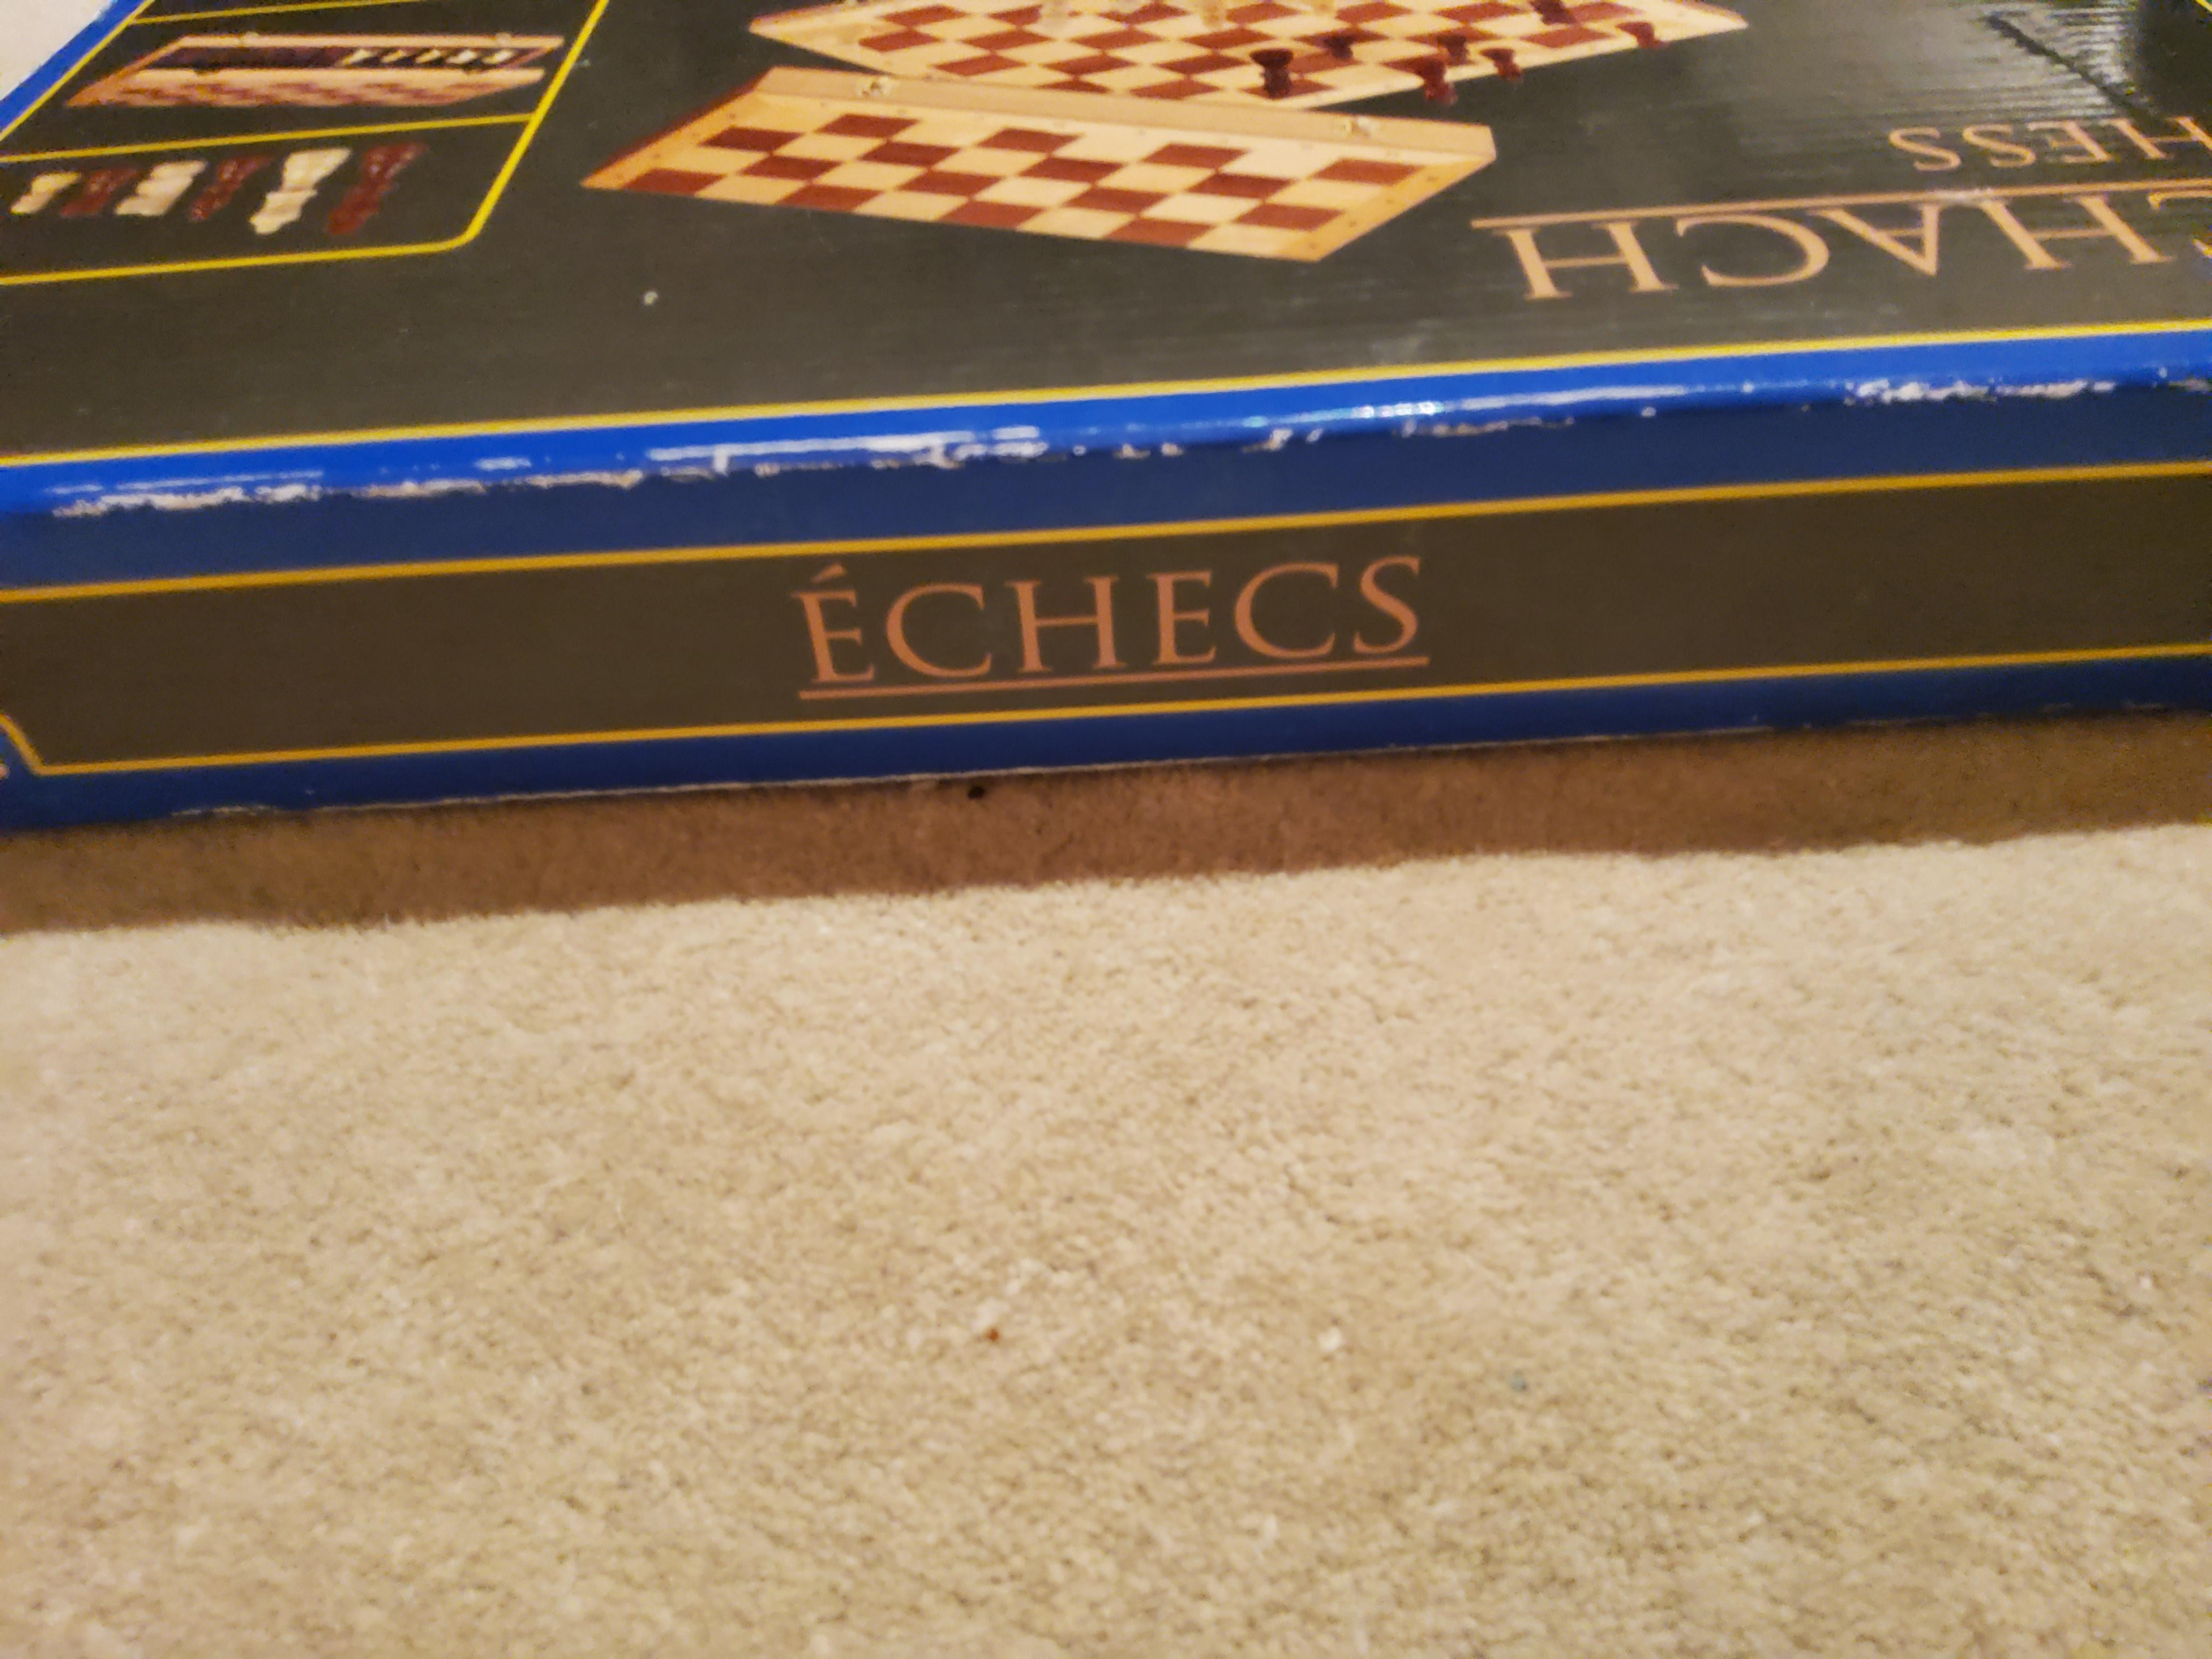schaak: (3, 3, 2212, 831)
